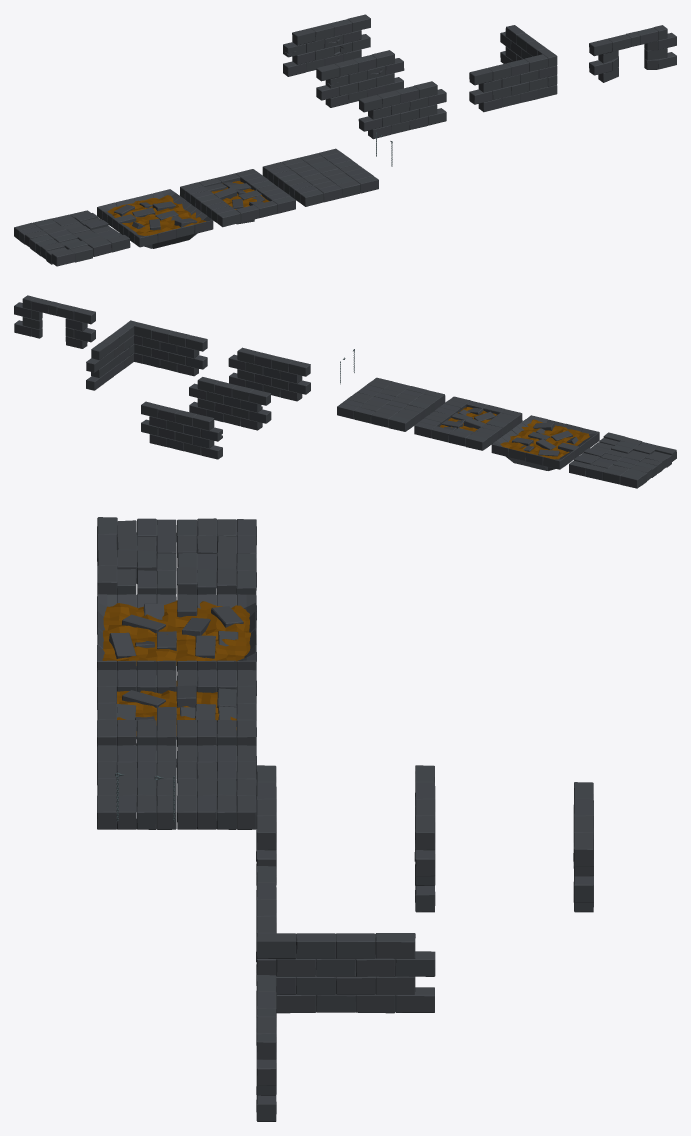
The model's file is ModularBrickEnvironment.fbx.
The picture shows the model from 3 angles, top to bottom: view 1: azimuth 30°, elevation 25°; view 2: azimuth 150°, elevation 25°; view 3: azimuth 270°, elevation 25°; orthographic projection. The views are drawn at different scales.
Parts seen in each view (by area): view 1: Cube.001, Cube.015, Cube.040, Cube.003, Cube.049, Cube, Cube.022, Cube.021, Cube.002; view 2: Cube.001, Cube.015, Cube.049, Cube.040, Cube.003, Cube.022, Cube.021, Cube, Cube.002; view 3: Cube.001, Cube.003, Cube.049, Cube.015, Cube.040, Cube.002, Cube.021, Cube.022, Cube.
Boxes of the visible parts, box(x1,y1,x2,y2) form: Cube.001: box(469, 25, 557, 112); Cube.015: box(97, 189, 213, 248); Cube.040: box(179, 169, 295, 227); Cube.003: box(262, 148, 378, 206); Cube.049: box(14, 210, 130, 266); Cube: box(358, 81, 446, 139); Cube.022: box(283, 14, 370, 76); Cube.021: box(316, 50, 404, 107); Cube.002: box(589, 25, 676, 82); Cube.001: box(86, 320, 207, 390); Cube.015: box(491, 415, 599, 470); Cube.049: box(569, 432, 676, 488); Cube.040: box(414, 396, 522, 450); Cube.003: box(337, 377, 445, 431); Cube.022: box(141, 401, 222, 459); Cube.021: box(189, 377, 271, 430); Cube: box(228, 347, 310, 401); Cube.002: box(14, 295, 95, 348); Cube.001: box(256, 866, 435, 1013); Cube.003: box(97, 745, 256, 829); Cube.049: box(97, 517, 256, 594); Cube.015: box(97, 594, 256, 671); Cube.040: box(97, 669, 256, 746); Cube.002: box(256, 975, 276, 1121); Cube.021: box(414, 765, 435, 912); Cube.022: box(573, 782, 593, 912); Cube: box(256, 765, 276, 891).
Size of the model in its own units: 7204 by 604 by 2507.
